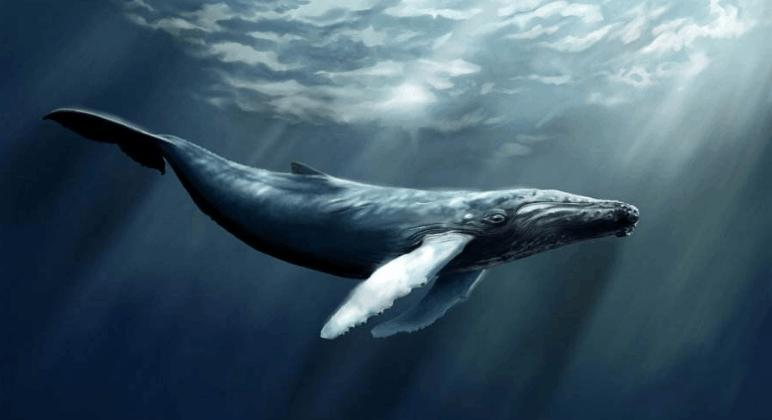fish: (41, 102, 640, 339)
